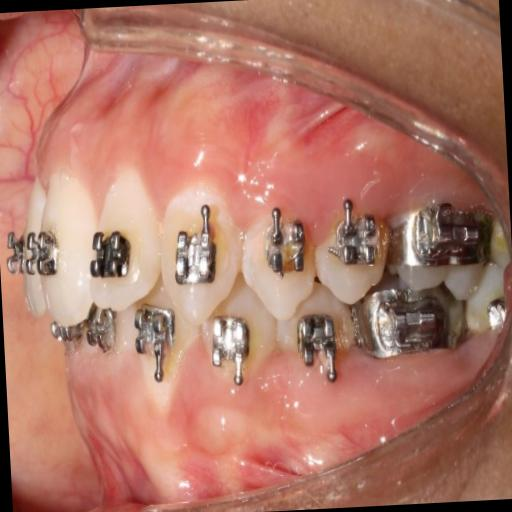correct_brace: (240, 210, 322, 326), (170, 214, 216, 292), (86, 222, 136, 290), (24, 212, 64, 286)
incorrect_brace: (84, 174, 164, 316), (266, 216, 312, 280)
